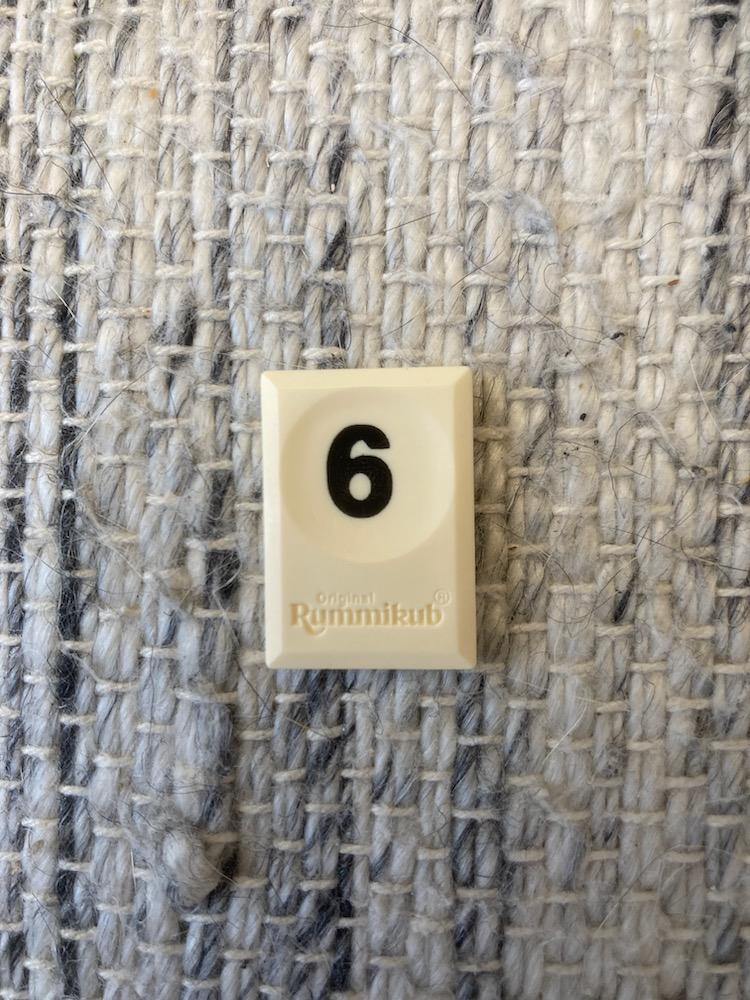black_6: (262, 367, 477, 668)
